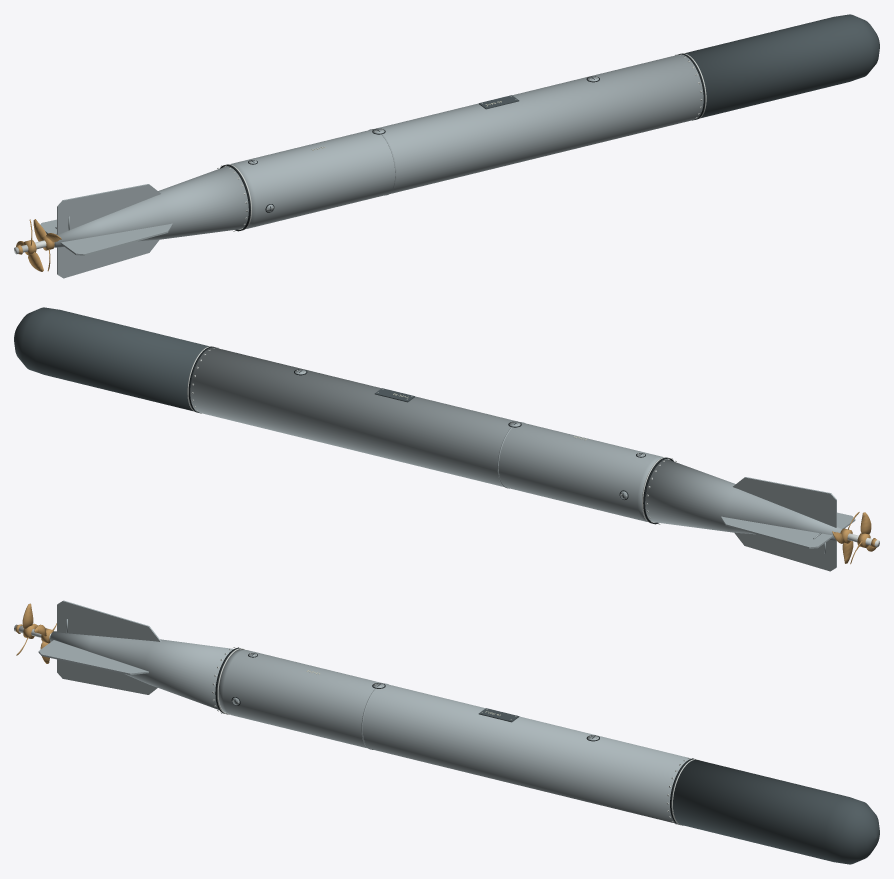
Rendered from type93.glb.
The picture shows the model from 3 angles, top to bottom: view 1: azimuth 30°, elevation 25°; view 2: azimuth 150°, elevation 25°; view 3: azimuth 330°, elevation 25°; orthographic projection.
Parts seen in each view (by area): view 1: Body_Sections.012_Torpedo_Satin_Steel.002, Body_Sections.012_Torpedo_Blackened_Steel.002, Tail_Assembly.012_Torpedo_Satin_Steel.002, Flush_Surface_Details.012_Torpedo_Recessed_Joints.002; view 2: Body_Sections.012_Torpedo_Satin_Steel.002, Body_Sections.012_Torpedo_Blackened_Steel.002, Tail_Assembly.012_Torpedo_Satin_Steel.002, Flush_Surface_Details.012_Torpedo_Recessed_Joints.002; view 3: Body_Sections.012_Torpedo_Satin_Steel.002, Body_Sections.012_Torpedo_Blackened_Steel.002, Tail_Assembly.012_Torpedo_Satin_Steel.002.
Boxes of the visible parts, left/top/right/bottom form: Body_Sections.012_Torpedo_Satin_Steel.002: left=54, top=54, right=703, bottom=247; Body_Sections.012_Torpedo_Blackened_Steel.002: left=685, top=14, right=879, bottom=118; Tail_Assembly.012_Torpedo_Satin_Steel.002: left=40, top=184, right=172, bottom=278; Flush_Surface_Details.012_Torpedo_Recessed_Joints.002: left=220, top=53, right=705, bottom=231; Body_Sections.012_Torpedo_Satin_Steel.002: left=190, top=347, right=842, bottom=540; Body_Sections.012_Torpedo_Blackened_Steel.002: left=14, top=307, right=208, bottom=411; Tail_Assembly.012_Torpedo_Satin_Steel.002: left=721, top=477, right=855, bottom=571; Flush_Surface_Details.012_Torpedo_Recessed_Joints.002: left=188, top=346, right=673, bottom=524; Body_Sections.012_Torpedo_Satin_Steel.002: left=50, top=631, right=691, bottom=823; Body_Sections.012_Torpedo_Blackened_Steel.002: left=671, top=759, right=879, bottom=864; Tail_Assembly.012_Torpedo_Satin_Steel.002: left=38, top=600, right=161, bottom=694.
Size of the model in its own units: 5.19 by 0.448 by 0.448.
